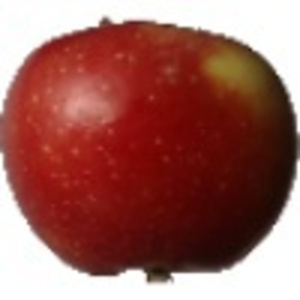maçã braeburn: (1, 18, 300, 279)
